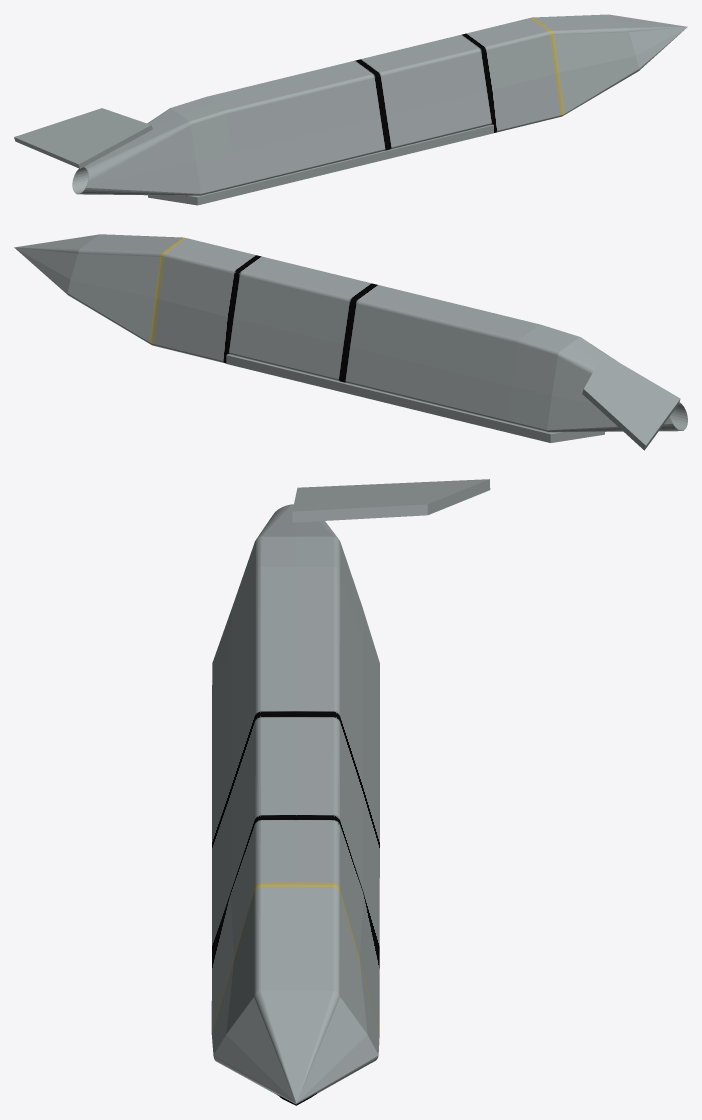
Rendered from b2aagm15815.glb.
The picture shows the model from 3 angles, top to bottom: view 1: azimuth 30°, elevation 25°; view 2: azimuth 150°, elevation 25°; view 3: azimuth 270°, elevation 25°; orthographic projection. The views are drawn at different scales.
Parts seen in each view (by area): view 1: 立方体.047; view 2: 立方体.047; view 3: 立方体.047.
Boxes of the visible parts, box(x1,y1,x2,y2) form: 立方体.047: box(14, 14, 687, 205); 立方体.047: box(14, 234, 687, 450); 立方体.047: box(211, 479, 490, 1105).
Size of the model in its own units: 5.42 by 0.647 by 1.04.
Materials: 4 (1 with a texture image).
